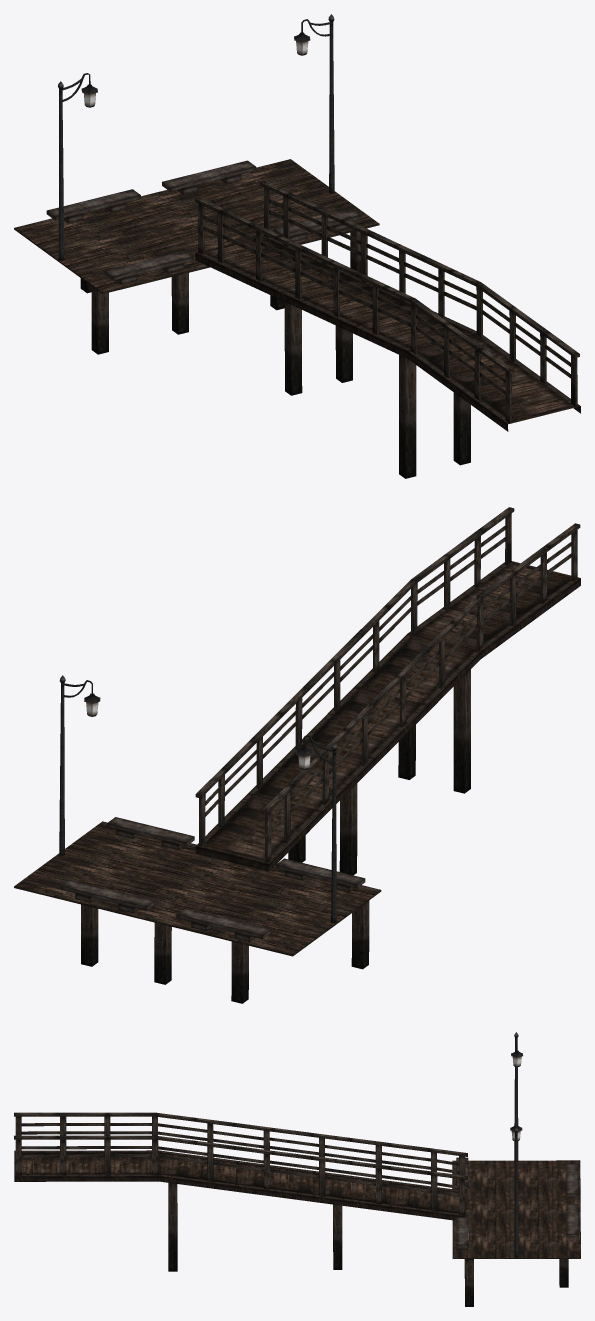
Rendered from Pier.obj.
3 renders of one model, top to bottom at view 1: azimuth 30°, elevation 25°; view 2: azimuth 150°, elevation 25°; view 3: azimuth 270°, elevation 25°, orthographic. The views are drawn at different scales.
Size of the model in its own units: 1.04 by 0.8964 by 2.55.
Materials: 1 (1 with a texture image).
